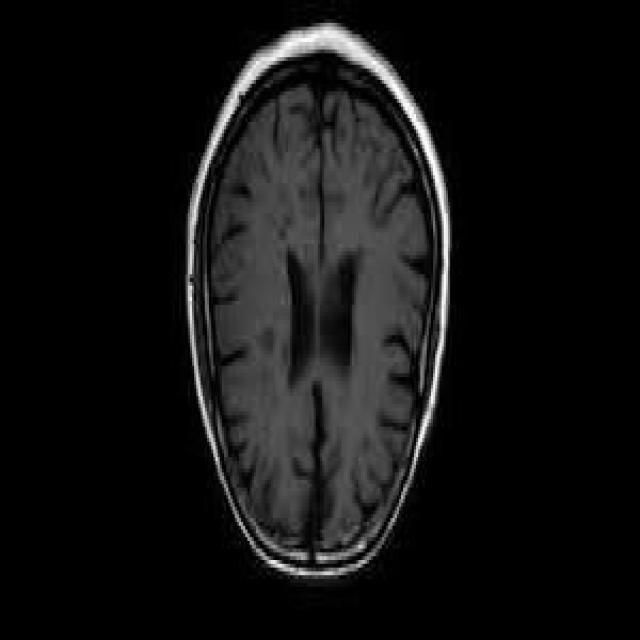no-tumor: (242, 147, 393, 487)
